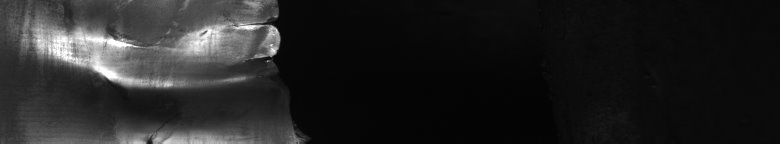ke: (22, 4, 264, 136)
